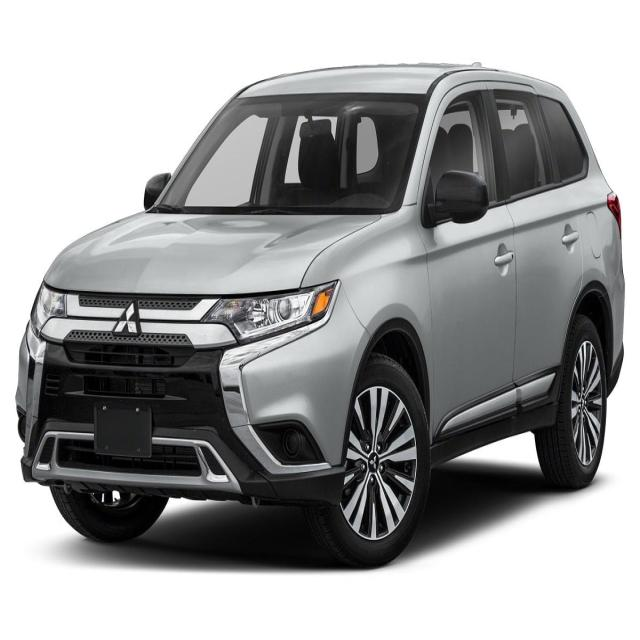light_vehicle: (17, 62, 626, 566)
